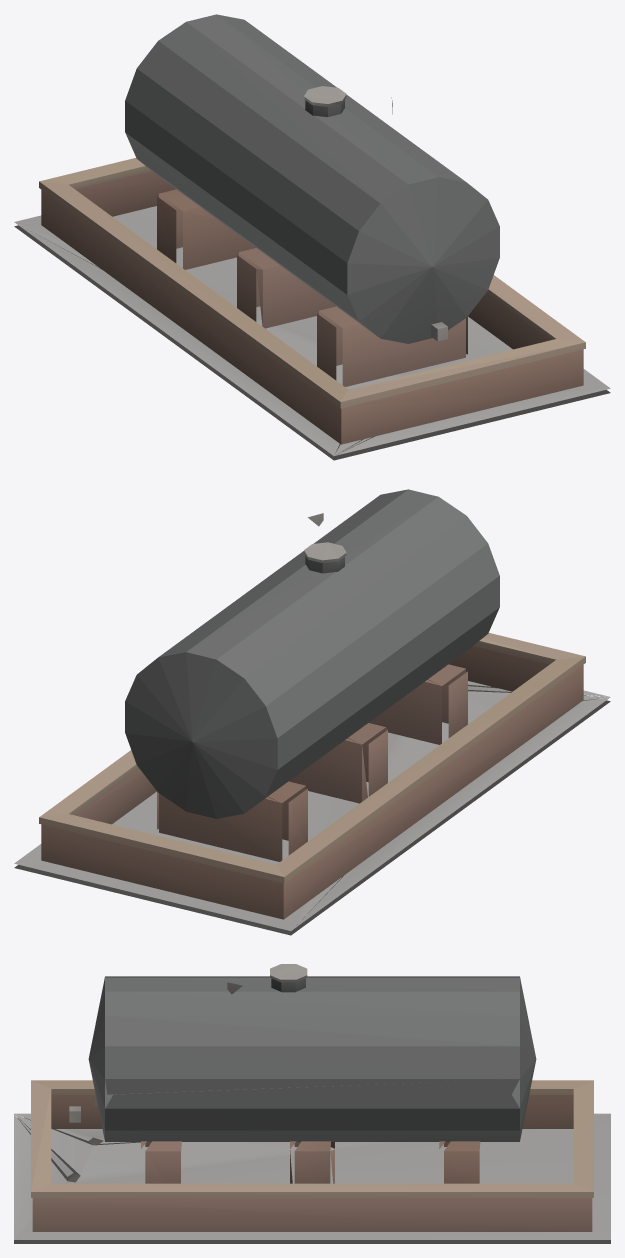
Rendered from fueltank.lod.glb.
The picture shows the model from 3 angles, top to bottom: view 1: azimuth 30°, elevation 25°; view 2: azimuth 150°, elevation 25°; view 3: azimuth 270°, elevation 25°; orthographic projection. The views are drawn at different scales.
Visible parts, largest first — view 1: fueltank; view 2: fueltank; view 3: fueltank.
Boxes of the visible parts, x1,y1,x2,y2 form: fueltank: (14, 14, 610, 460); fueltank: (14, 489, 610, 935); fueltank: (14, 964, 610, 1243).
Size of the model in its own units: 4.8 by 3.8 by 9.6.
